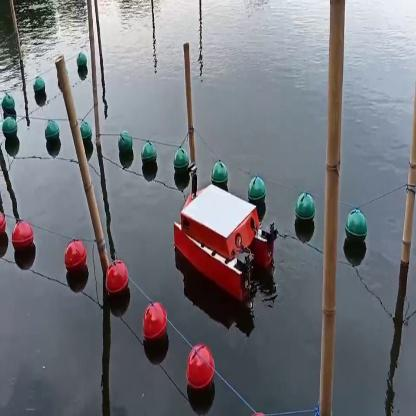green_buoy: (348, 212, 367, 248), (42, 118, 61, 152), (248, 174, 265, 208), (116, 132, 134, 163), (296, 199, 314, 229), (142, 142, 158, 174), (1, 122, 18, 148), (174, 154, 187, 178), (80, 125, 92, 148), (3, 96, 16, 116), (213, 162, 226, 181), (34, 78, 44, 100), (75, 53, 85, 74)
red_buoy: (188, 341, 214, 401), (104, 259, 130, 305), (142, 301, 166, 347), (8, 218, 34, 259), (62, 239, 86, 275)
